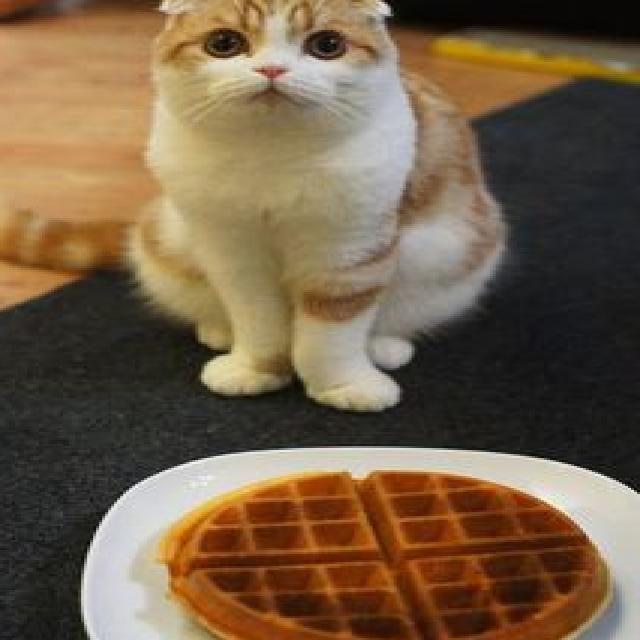Scottish Fold: (0, 0, 514, 414)
